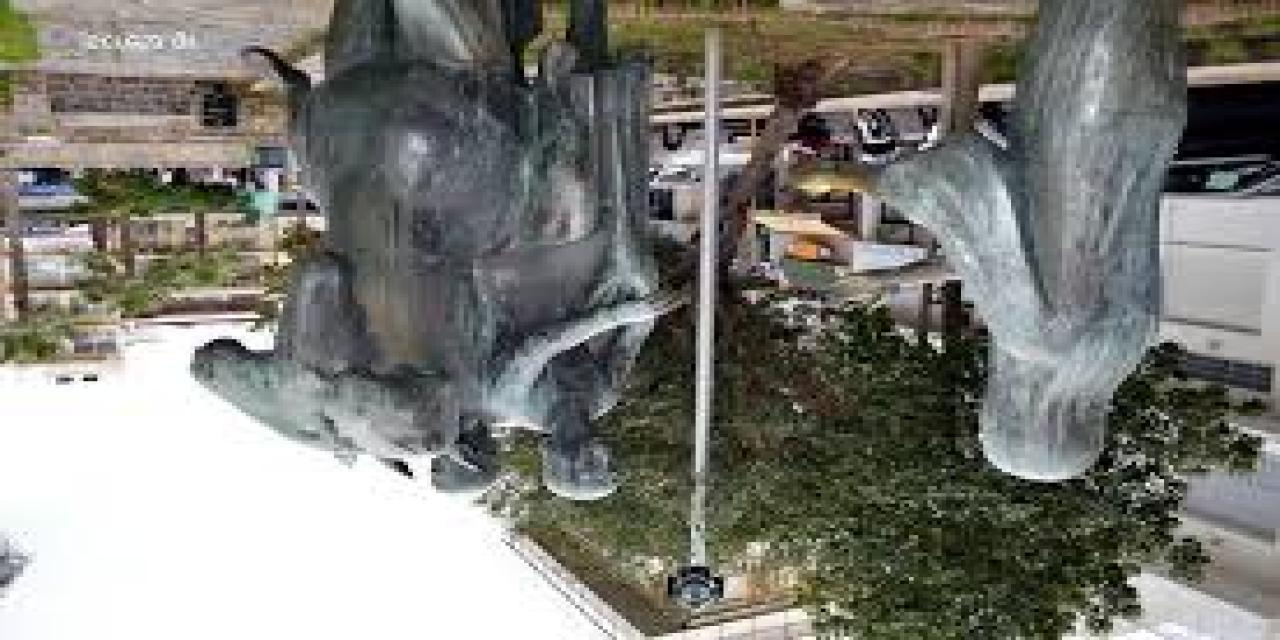Aretousa: (190, 1, 1187, 505)
